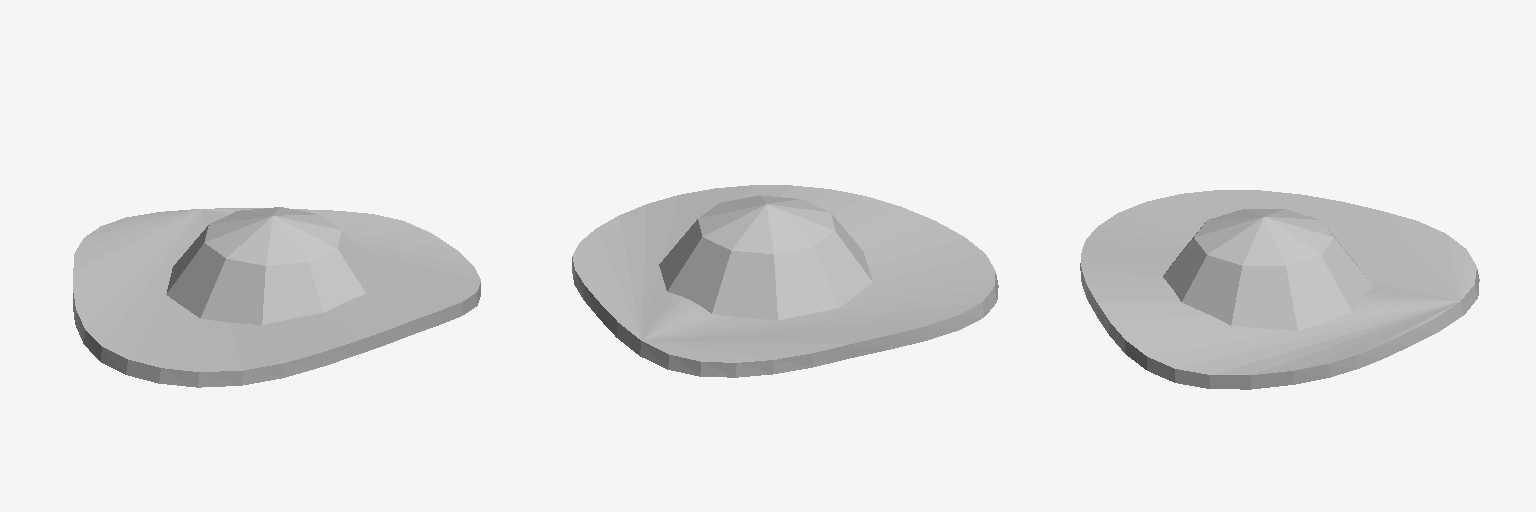
File: FriedEgg_Topping.obj
3 renders of one model, left to right at view 1: azimuth 30°, elevation 25°; view 2: azimuth 150°, elevation 25°; view 3: azimuth 270°, elevation 25°, orthographic.
Visible parts, largest first — view 1: Egg; view 2: Egg; view 3: Egg.
Part boxes in pixels (bbox=[...]): Egg: bbox=[73, 207, 480, 387]; Egg: bbox=[572, 185, 998, 377]; Egg: bbox=[1080, 190, 1479, 389].
Bounding box in the file's own units: 2.56 × 0.5738 × 2.37.